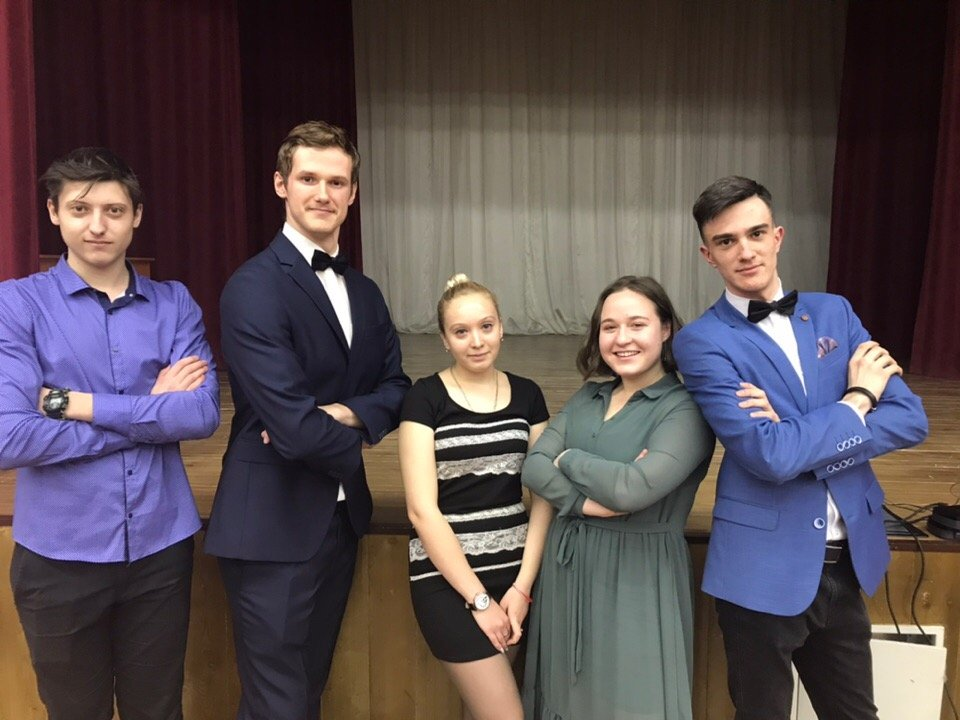students: (671, 172, 929, 719), (205, 120, 415, 717), (7, 154, 220, 719), (520, 275, 713, 716), (400, 276, 548, 718)
